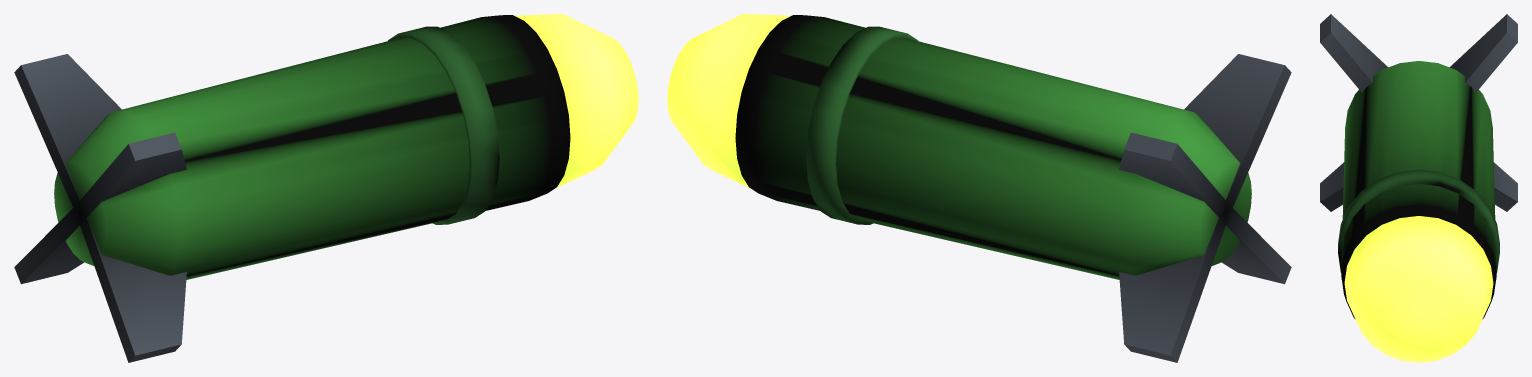
The model's file is proj_torpedo.glb.
3 views of the same model, side by side, from view 1: azimuth 30°, elevation 25°; view 2: azimuth 150°, elevation 25°; view 3: azimuth 270°, elevation 25° (orthographic). The views are drawn at different scales.
Parts seen in each view (by area): view 1: torpedo_mesh; view 2: torpedo_mesh; view 3: torpedo_mesh.
Boxes of the visible parts, x1=… form: torpedo_mesh: x1=14, y1=14, x2=638, y2=362; torpedo_mesh: x1=667, y1=14, x2=1291, y2=362; torpedo_mesh: x1=1320, y1=14, x2=1517, y2=362.
Size of the model in its own units: 1.01 by 0.3818 by 0.3818.
